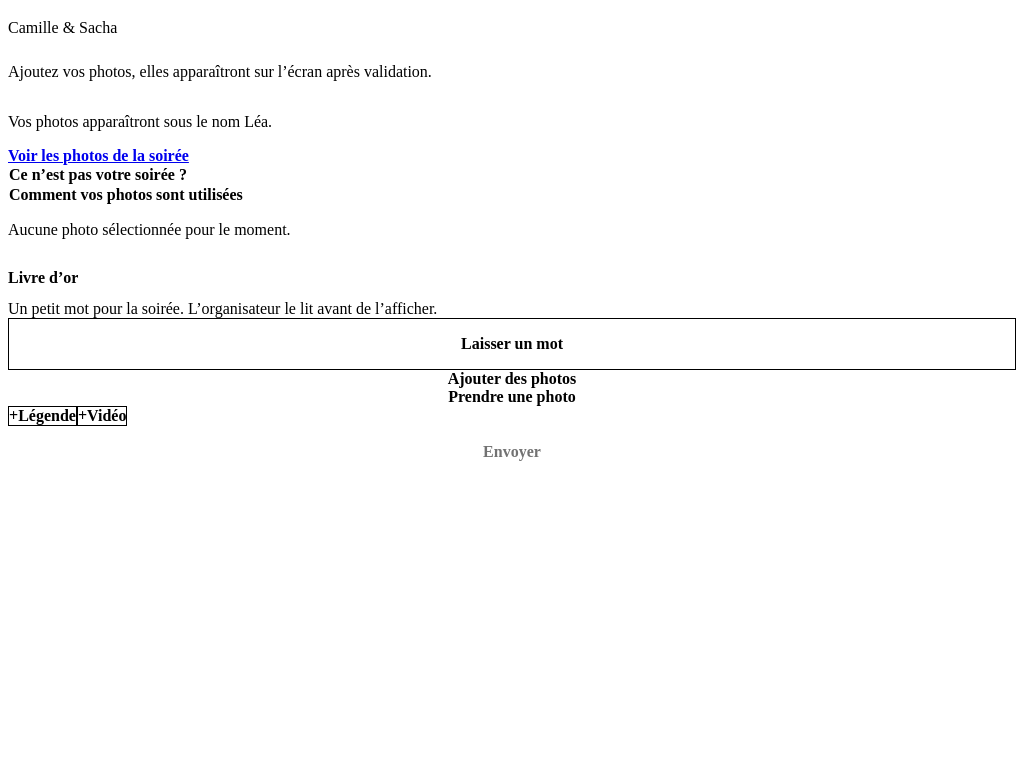
Scenario: GuestUploadPage, the guestbook › writes a message and thanks the guest in the words of a moderated event
Step 1. Click the button "Laisser un mot" → [512, 344], box x1=8 y1=318 x2=1016 y2=370
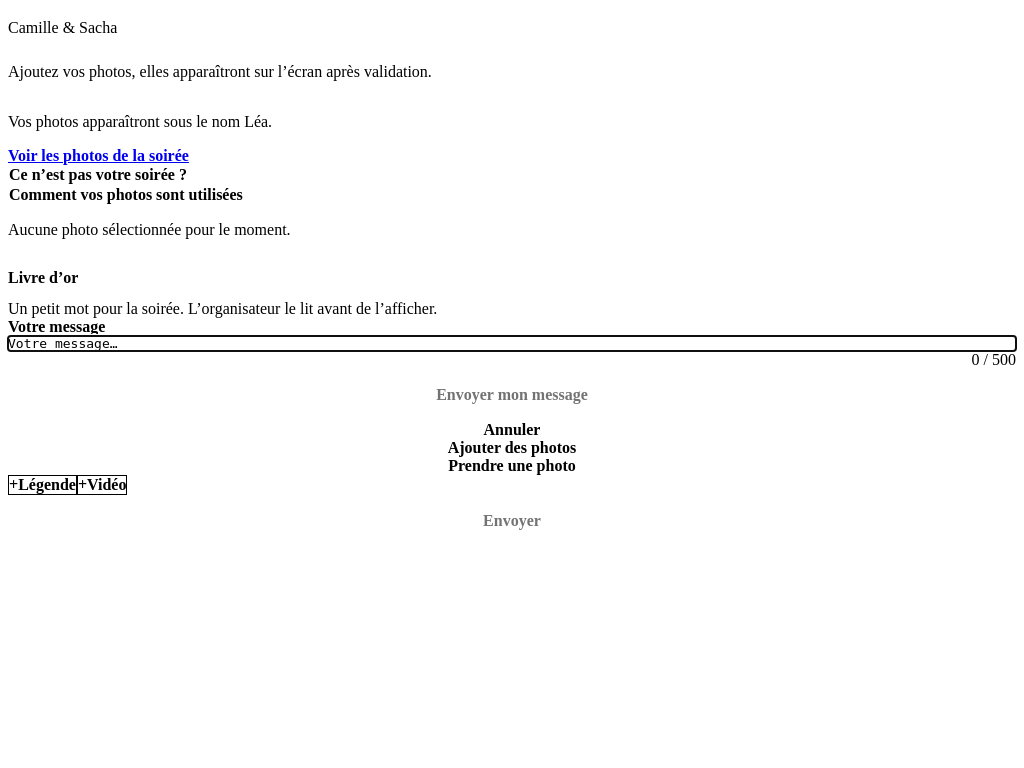
Step 2. Type "Bravo les mariés" into the text box labelled "Votre message" → [512, 344], box x1=8 y1=336 x2=1016 y2=351
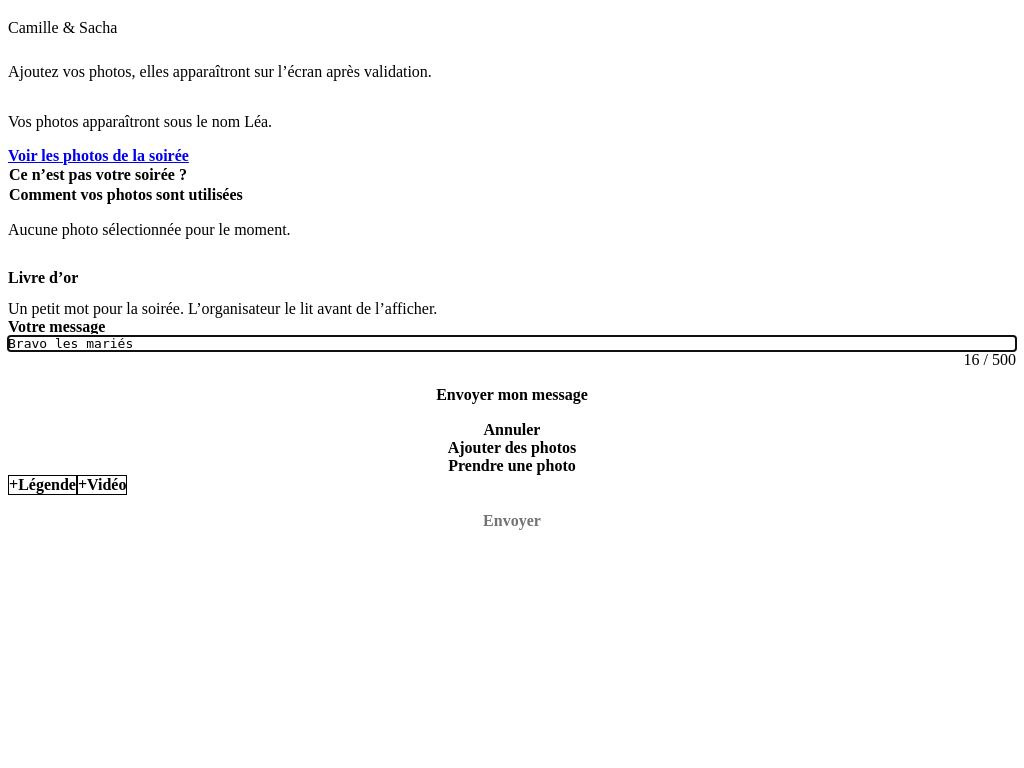
Step 3. Click the button "Envoyer mon message" → [512, 395], box x1=8 y1=369 x2=1016 y2=421
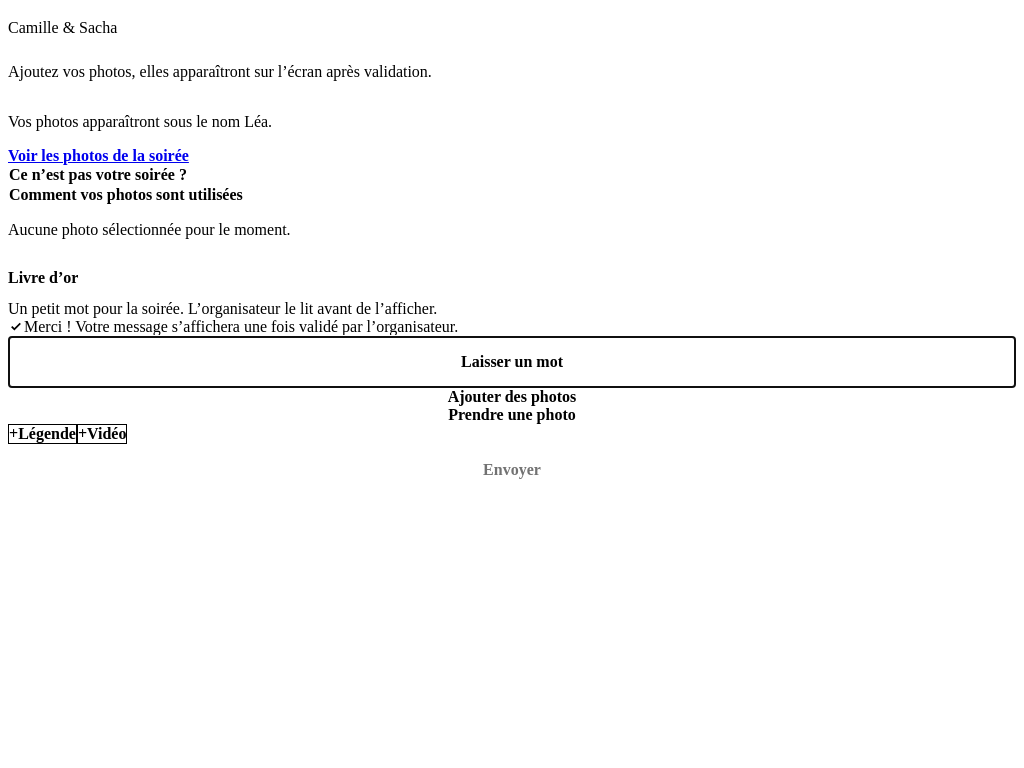
Check: the text "Merci ! Votre message s’affichera une fois validé par l’organisateur." is shown, box x1=24 y1=318 x2=458 y2=336
